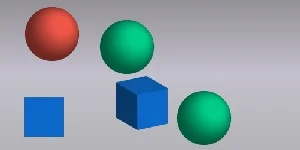正方体: (112, 75, 170, 133)
正方形: (21, 95, 66, 140)
球体: (173, 90, 233, 147), (98, 16, 155, 74), (24, 5, 80, 62)
